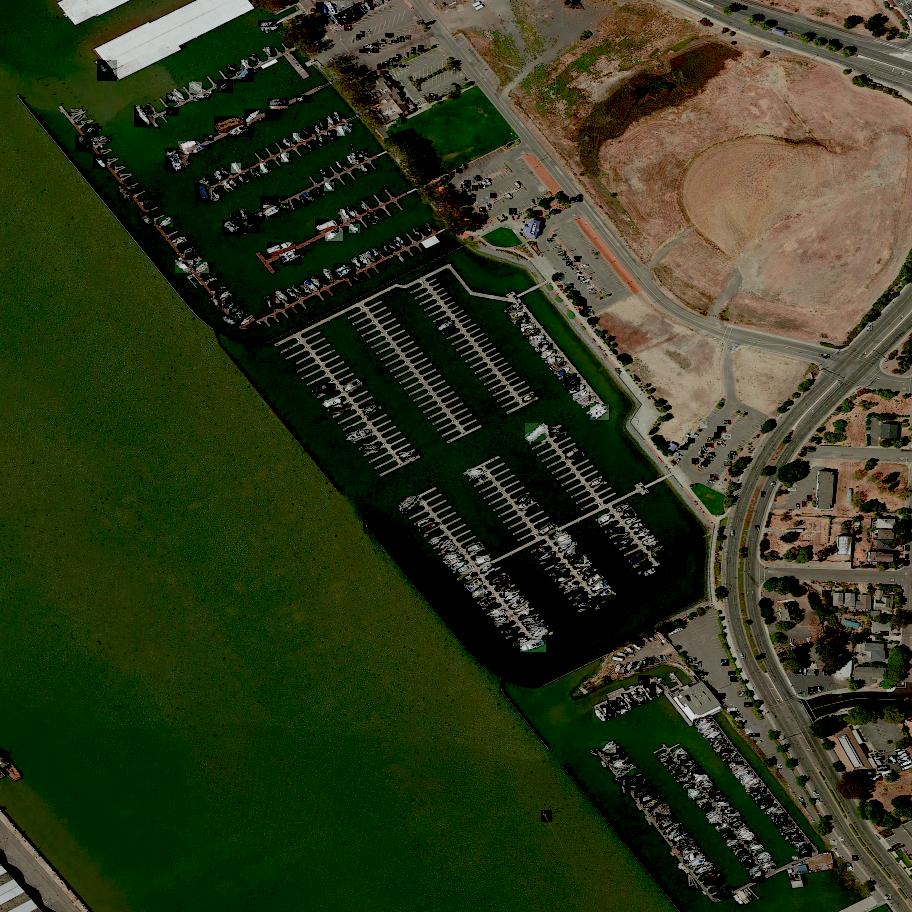large-vehicle: (862, 770, 876, 779), (859, 779, 872, 787), (877, 766, 890, 773), (873, 774, 883, 783), (888, 755, 897, 765), (898, 753, 909, 761), (738, 691, 748, 698), (883, 770, 893, 777), (896, 751, 906, 757), (876, 756, 885, 761), (898, 758, 909, 761)
ship: (215, 116, 247, 134), (166, 147, 186, 173), (525, 423, 548, 444), (97, 59, 117, 83), (135, 105, 153, 130), (268, 242, 296, 257), (591, 596, 613, 615), (280, 249, 303, 267), (195, 182, 212, 205), (591, 403, 611, 422), (241, 214, 260, 234), (223, 219, 243, 238), (336, 263, 357, 281), (75, 134, 94, 153), (316, 220, 340, 235), (347, 429, 372, 443), (261, 195, 280, 213), (520, 640, 546, 653), (651, 804, 669, 821), (421, 522, 441, 537), (459, 572, 479, 587), (228, 126, 253, 138), (587, 573, 604, 590), (402, 496, 419, 513), (326, 226, 343, 243), (640, 789, 658, 805), (344, 378, 362, 394), (684, 850, 703, 865), (538, 522, 557, 537), (518, 499, 538, 513), (119, 184, 133, 204), (568, 550, 585, 566), (564, 376, 581, 392), (137, 212, 154, 228), (558, 539, 576, 554), (635, 784, 653, 799), (264, 205, 282, 220), (245, 109, 263, 124), (175, 260, 193, 275), (222, 315, 240, 330), (314, 383, 336, 395), (643, 796, 663, 809), (507, 303, 523, 319), (466, 577, 483, 592), (179, 141, 200, 153), (437, 320, 455, 334), (551, 568, 570, 581), (590, 582, 610, 594), (536, 551, 556, 563), (680, 846, 700, 858), (600, 704, 615, 720), (532, 627, 548, 642), (364, 402, 380, 417), (271, 294, 286, 310), (631, 553, 648, 567), (564, 546, 581, 560), (664, 822, 681, 836), (699, 721, 716, 735), (642, 566, 660, 579), (210, 296, 222, 315), (669, 828, 684, 843), (277, 289, 292, 304), (239, 68, 254, 83), (717, 885, 732, 900), (510, 597, 526, 611), (218, 79, 234, 93), (572, 591, 589, 604), (628, 692, 645, 705), (690, 857, 707, 870), (556, 366, 573, 379), (573, 389, 590, 402), (489, 575, 509, 586), (750, 870, 765, 884), (601, 741, 616, 755), (622, 693, 636, 708), (305, 279, 320, 293), (703, 726, 718, 740), (566, 448, 582, 461), (619, 763, 635, 776), (643, 683, 656, 699), (660, 817, 676, 830), (608, 699, 621, 715), (594, 708, 607, 724), (94, 154, 107, 170), (747, 783, 763, 796), (324, 0, 337, 16), (750, 787, 767, 799), (704, 877, 724, 887), (467, 543, 485, 554), (551, 362, 569, 373), (439, 540, 453, 554), (515, 636, 529, 650), (637, 688, 650, 703), (242, 316, 257, 329), (774, 814, 789, 827), (695, 865, 714, 875), (324, 398, 343, 408), (509, 312, 528, 322), (330, 405, 351, 414), (267, 99, 288, 108), (701, 870, 718, 881), (514, 604, 531, 615), (524, 328, 541, 339), (85, 124, 99, 137), (496, 579, 510, 592), (539, 343, 553, 356), (266, 109, 280, 122), (716, 743, 730, 756), (745, 778, 759, 791), (444, 555, 464, 564), (481, 597, 496, 609), (173, 89, 185, 104), (557, 575, 573, 586), (616, 504, 632, 515), (783, 828, 799, 839), (549, 428, 566, 438), (626, 776, 643, 786), (652, 546, 665, 559), (358, 254, 371, 267), (517, 317, 530, 330), (287, 287, 300, 300), (799, 845, 812, 858), (651, 684, 665, 696), (193, 145, 207, 157), (196, 262, 210, 274), (160, 217, 174, 229), (792, 836, 806, 848), (541, 809, 553, 823), (417, 518, 432, 529), (365, 250, 376, 265), (598, 514, 613, 525), (522, 393, 537, 404), (707, 732, 722, 743), (766, 807, 781, 818), (605, 748, 623, 757), (456, 566, 472, 576), (527, 624, 547, 632), (324, 268, 334, 284), (732, 765, 748, 775), (776, 820, 792, 830), (600, 588, 613, 600), (381, 243, 393, 256), (518, 494, 531, 506), (503, 587, 516, 599), (472, 586, 485, 598), (536, 340, 549, 352), (543, 350, 556, 362), (293, 285, 306, 297), (680, 755, 693, 767), (712, 738, 725, 750), (580, 564, 594, 575), (618, 538, 632, 549), (620, 785, 631, 799), (506, 592, 520, 603), (481, 564, 495, 575), (189, 82, 203, 93), (721, 749, 735, 760), (725, 753, 739, 764), (754, 794, 771, 803), (258, 20, 277, 28), (642, 537, 657, 547), (557, 535, 572, 545), (503, 627, 518, 637), (569, 385, 584, 395), (345, 207, 357, 219), (451, 561, 467, 570), (630, 782, 646, 791), (613, 760, 631, 768), (674, 835, 690, 844), (492, 617, 510, 625), (522, 618, 540, 626), (548, 357, 564, 366), (226, 64, 238, 76), (749, 866, 761, 878), (692, 769, 704, 781), (741, 854, 753, 866), (467, 470, 483, 479), (445, 546, 458, 557), (591, 478, 604, 489), (312, 276, 323, 289), (167, 93, 180, 104), (763, 861, 776, 872), (721, 830, 734, 841), (710, 813, 723, 824), (695, 774, 709, 784), (757, 852, 771, 862), (579, 397, 596, 405), (739, 775, 756, 783), (617, 696, 626, 711), (476, 556, 491, 565), (521, 324, 536, 333), (265, 297, 274, 312), (694, 720, 713, 727), (387, 241, 398, 253), (371, 249, 383, 260), (639, 675, 651, 686), (219, 291, 231, 302), (230, 304, 241, 316), (674, 748, 686, 759), (340, 209, 350, 222), (353, 256, 363, 269), (166, 107, 179, 117), (730, 816, 743, 826), (732, 820, 745, 830), (399, 452, 415, 460), (431, 537, 445, 546), (528, 336, 546, 343), (91, 137, 109, 144), (697, 798, 711, 807), (781, 824, 795, 833), (738, 850, 749, 861), (702, 802, 713, 813), (536, 546, 551, 554), (521, 610, 536, 618), (213, 188, 223, 200), (727, 811, 739, 821), (707, 810, 719, 820), (316, 2, 326, 14), (608, 527, 625, 534), (193, 94, 210, 101), (623, 510, 636, 519), (185, 251, 198, 260), (658, 752, 671, 761), (688, 766, 701, 775), (728, 839, 741, 848), (297, 96, 311, 104), (727, 761, 743, 768), (735, 771, 751, 778), (715, 823, 729, 831), (794, 843, 810, 850), (349, 224, 360, 234), (232, 213, 243, 223), (313, 123, 323, 134), (282, 139, 293, 149), (726, 835, 737, 845), (356, 150, 366, 161), (325, 181, 335, 192), (555, 563, 567, 572), (367, 212, 376, 224), (373, 210, 382, 222), (362, 446, 380, 452), (203, 134, 215, 143), (182, 246, 194, 255), (300, 284, 312, 293), (232, 163, 241, 175), (738, 829, 750, 838), (742, 833, 754, 842), (575, 560, 590, 567), (551, 532, 566, 539), (759, 800, 774, 807), (771, 812, 786, 819), (577, 602, 590, 610), (631, 522, 644, 530), (564, 373, 577, 381), (215, 288, 228, 296), (226, 301, 239, 309), (699, 779, 712, 787), (750, 845, 763, 853), (714, 795, 727, 803), (680, 841, 697, 847), (393, 240, 403, 250), (302, 128, 312, 138), (627, 662, 636, 673), (260, 163, 269, 174), (327, 131, 336, 142), (317, 135, 326, 146), (229, 178, 238, 189), (265, 47, 274, 58), (662, 756, 673, 765), (744, 860, 755, 869), (564, 583, 578, 590), (646, 543, 660, 550), (491, 610, 505, 617), (686, 786, 700, 793), (618, 532, 630, 540), (610, 755, 626, 761), (172, 237, 184, 245), (335, 112, 343, 124), (669, 765, 681, 773), (713, 819, 725, 827), (689, 792, 702, 799), (745, 838, 758, 845), (789, 834, 802, 841), (613, 777, 623, 786), (351, 275, 361, 284), (144, 198, 154, 207), (221, 168, 230, 178), (350, 154, 360, 163), (336, 161, 345, 171), (635, 661, 643, 672), (281, 203, 292, 211), (304, 191, 312, 202), (329, 116, 337, 127), (338, 126, 346, 137), (281, 153, 289, 164), (736, 825, 747, 833), (657, 815, 671, 821), (205, 274, 217, 281), (319, 119, 326, 131), (684, 763, 698, 769), (675, 774, 687, 781), (471, 476, 485, 482), (361, 204, 370, 213), (721, 804, 730, 813), (361, 149, 370, 158), (636, 526, 646, 534), (293, 133, 301, 143), (224, 181, 232, 191), (635, 640, 645, 648), (736, 848, 746, 856), (264, 26, 280, 31), (347, 156, 355, 166), (585, 572, 598, 578), (677, 754, 690, 760), (682, 783, 695, 789), (731, 845, 744, 851), (709, 793, 722, 799), (316, 187, 323, 198), (241, 209, 248, 220), (240, 173, 247, 184), (749, 842, 760, 849), (397, 237, 406, 245), (177, 240, 189, 246), (250, 168, 258, 177), (203, 177, 211, 186), (724, 809, 736, 815), (703, 785, 715, 791), (616, 664, 623, 674), (300, 197, 307, 207), (216, 171, 223, 181), (241, 60, 248, 70), (706, 788, 717, 794), (250, 55, 258, 63), (413, 229, 421, 237), (601, 761, 609, 769), (592, 750, 600, 758), (360, 166, 368, 174), (425, 225, 432, 234), (625, 647, 634, 654), (289, 200, 296, 209), (321, 169, 328, 178), (235, 311, 245, 317), (717, 802, 729, 807), (680, 778, 691, 783), (640, 533, 649, 539), (618, 652, 627, 658), (644, 658, 649, 668), (209, 279, 219, 284), (762, 859, 772, 864), (621, 667, 627, 675), (307, 142, 313, 150), (621, 709, 628, 715), (367, 415, 373, 421), (794, 874, 799, 880), (659, 655, 663, 661), (191, 262, 201, 264), (792, 857, 798, 860), (790, 875, 794, 879), (650, 658, 652, 665), (162, 226, 166, 229), (617, 712, 622, 714), (351, 145, 353, 148)
small-vehicle: (717, 426, 727, 434), (721, 659, 731, 667), (847, 862, 855, 872), (581, 278, 592, 285), (805, 446, 817, 452), (429, 93, 438, 101), (692, 457, 700, 465), (710, 474, 718, 482), (509, 208, 517, 216), (745, 728, 754, 735), (693, 661, 702, 668), (341, 68, 350, 75), (452, 83, 461, 90), (830, 39, 839, 46), (714, 432, 722, 439), (688, 437, 695, 445), (700, 422, 707, 430), (724, 459, 732, 466), (728, 454, 735, 462), (719, 694, 727, 701), (812, 790, 819, 798), (735, 715, 743, 722), (808, 687, 815, 695), (822, 591, 830, 598), (462, 163, 469, 171), (397, 36, 405, 43), (707, 480, 716, 486), (744, 702, 753, 708), (675, 452, 682, 459), (732, 344, 739, 351), (549, 210, 556, 217), (531, 199, 538, 206), (506, 193, 513, 200), (570, 291, 577, 298), (580, 300, 587, 307), (884, 894, 891, 901), (830, 840, 837, 847), (446, 173, 453, 180), (473, 176, 480, 183), (464, 181, 471, 188), (707, 437, 715, 443), (723, 434, 731, 440), (558, 251, 566, 257), (479, 207, 487, 213), (487, 203, 493, 211), (479, 182, 485, 190), (567, 287, 575, 293), (772, 758, 778, 766), (864, 639, 872, 645), (730, 677, 738, 683), (418, 45, 424, 53), (345, 25, 353, 31), (688, 658, 697, 663), (880, 631, 889, 636), (733, 714, 742, 719), (359, 49, 368, 54), (372, 42, 381, 47), (692, 432, 699, 438), (702, 447, 708, 454), (701, 462, 708, 468), (465, 188, 471, 195), (472, 185, 478, 192), (566, 261, 573, 267), (575, 257, 582, 263), (589, 288, 596, 294), (586, 308, 593, 314), (817, 799, 823, 806), (808, 495, 814, 502), (852, 855, 858, 862), (482, 181, 488, 188), (477, 174, 483, 181), (373, 48, 380, 54), (450, 171, 456, 178), (456, 168, 463, 174), (703, 446, 711, 451), (706, 443, 714, 448), (698, 451, 706, 456), (581, 265, 589, 270), (587, 286, 595, 291), (750, 734, 760, 738), (696, 670, 704, 675), (486, 178, 491, 186), (365, 44, 373, 49), (377, 39, 385, 44), (402, 35, 410, 40), (731, 451, 737, 457), (728, 708, 737, 712), (799, 797, 805, 803), (460, 182, 466, 188), (739, 6, 748, 10), (708, 452, 715, 457), (740, 653, 745, 660), (731, 711, 738, 716), (729, 672, 736, 677), (389, 58, 394, 65), (385, 61, 390, 68), (368, 51, 375, 56), (363, 46, 370, 51), (467, 214, 473, 219), (778, 764, 783, 770), (905, 545, 910, 551), (839, 837, 845, 842), (361, 32, 366, 38), (681, 446, 688, 450), (699, 466, 706, 470), (554, 246, 561, 250), (587, 312, 594, 316), (789, 488, 796, 492), (740, 720, 747, 724), (686, 442, 691, 447), (802, 802, 807, 807), (579, 277, 585, 281), (583, 306, 591, 309), (876, 637, 882, 641), (803, 501, 807, 507), (382, 63, 386, 69), (703, 461, 710, 464), (577, 274, 584, 277), (700, 673, 707, 676), (400, 65, 407, 68), (385, 33, 392, 36), (718, 442, 723, 446), (868, 325, 872, 330), (491, 193, 496, 197), (803, 669, 807, 674), (906, 529, 910, 534), (412, 48, 416, 53), (452, 68, 456, 73), (705, 458, 714, 460), (902, 598, 905, 604), (905, 560, 908, 566), (822, 355, 830, 357), (547, 238, 555, 240), (575, 272, 583, 274), (827, 670, 831, 674), (795, 669, 799, 673), (771, 481, 774, 486), (731, 531, 734, 536), (790, 639, 793, 644), (905, 554, 908, 559), (796, 503, 799, 508), (397, 55, 400, 60), (405, 52, 408, 57), (357, 35, 360, 40), (570, 266, 577, 268), (842, 652, 849, 654), (707, 455, 713, 457), (563, 257, 569, 259), (560, 276, 564, 279), (378, 64, 380, 70), (725, 421, 730, 423), (823, 670, 825, 675), (367, 30, 370, 33), (762, 491, 764, 495), (819, 687, 821, 691), (800, 669, 802, 673), (756, 526, 758, 529), (815, 670, 817, 673), (394, 58, 396, 61), (392, 41, 398, 42), (815, 687, 816, 692)
